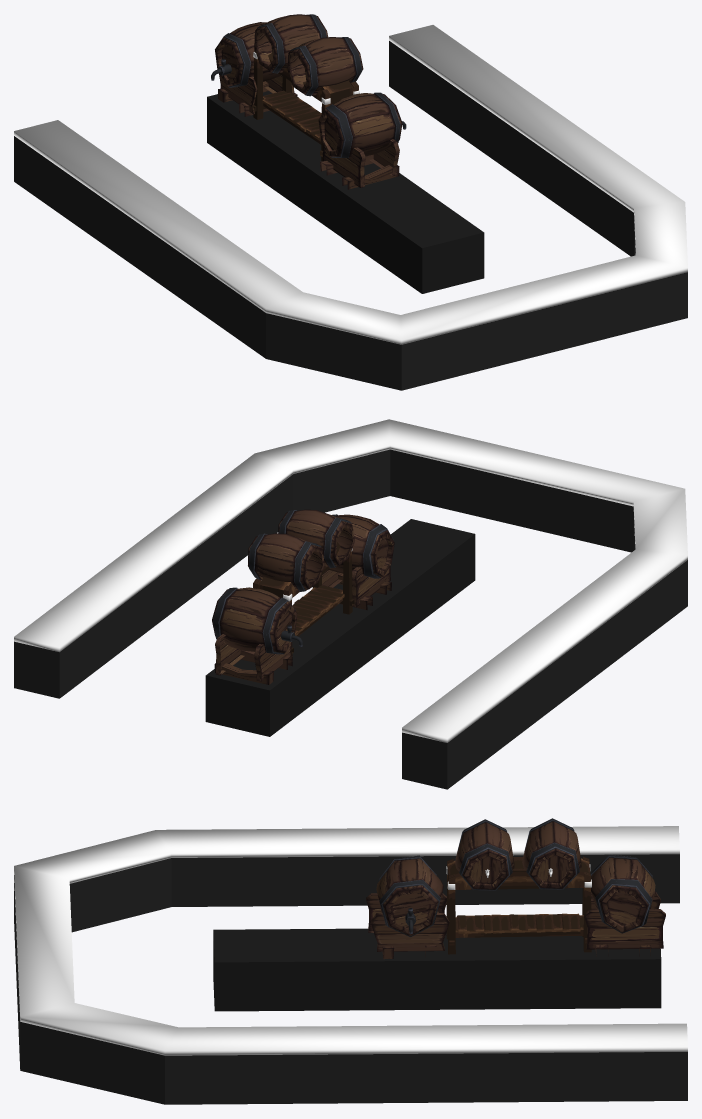
The model's file is DiscoBarra.fbx.
3 renders of one model, top to bottom at view 1: azimuth 30°, elevation 25°; view 2: azimuth 150°, elevation 25°; view 3: azimuth 270°, elevation 25°, orthographic. The views are drawn at different scales.
Visible parts, largest first — view 1: Objeto_21.001, Table_2.002, Barrel_Holder.002, SM_PROP_bucket_dungeon_02.003, SM_PROP_bucket_dungeon_02.002; view 2: Objeto_21.001, Table_2.002, Barrel_Holder.002, SM_PROP_bucket_dungeon_02.002, SM_PROP_bucket_dungeon_02.003; view 3: Objeto_21.001, Table_2.002, Barrel_Holder.002, SM_PROP_bucket_dungeon_02.003, SM_PROP_bucket_dungeon_02.002.
Part boxes in pixels (x1,y1,x2,y2): Objeto_21.001: [14, 25, 687, 390]; Table_2.002: [207, 91, 484, 293]; Barrel_Holder.002: [252, 14, 363, 161]; SM_PROP_bucket_dungeon_02.003: [318, 92, 406, 189]; SM_PROP_bucket_dungeon_02.002: [211, 22, 297, 116]; Objeto_21.001: [14, 419, 687, 789]; Table_2.002: [205, 519, 475, 736]; Barrel_Holder.002: [248, 509, 354, 655]; SM_PROP_bucket_dungeon_02.002: [212, 587, 302, 684]; SM_PROP_bucket_dungeon_02.003: [322, 514, 394, 610]; Objeto_21.001: [14, 826, 687, 1104]; Table_2.002: [213, 928, 661, 1011]; Barrel_Holder.002: [446, 818, 591, 954]; SM_PROP_bucket_dungeon_02.003: [366, 855, 449, 959]; SM_PROP_bucket_dungeon_02.002: [584, 854, 665, 956].
Size of the model in its own units: 8.84 by 3.07 by 11.2.
Materials: 8 (3 with a texture image).
